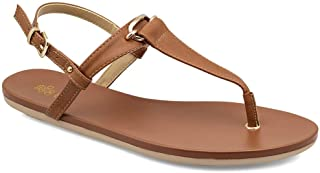shoes: (1, 1, 319, 166), (1, 1, 317, 162)
